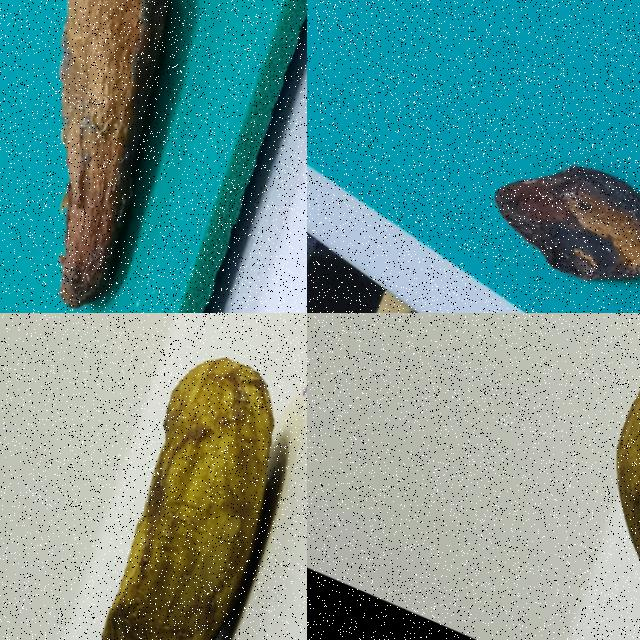Fine_cocoabeans: (517, 313, 639, 639)
Flat_cocoabeans: (4, 313, 306, 639), (0, 0, 304, 312), (438, 88, 639, 312)
